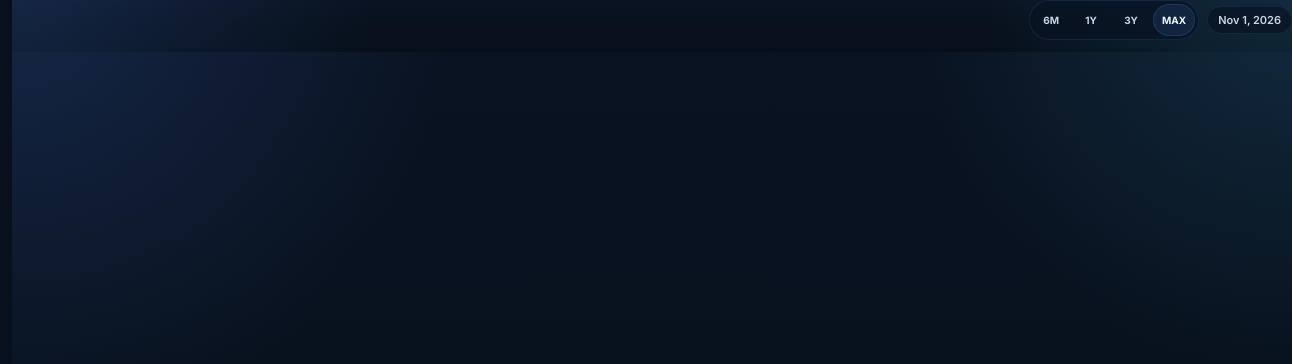
it: exposes the selected range and updates it when the user chooses another period
The width and height of the screenshot is (1292, 364).
Click the button "6M" at (1051, 20), box [1033,4,1069,36]
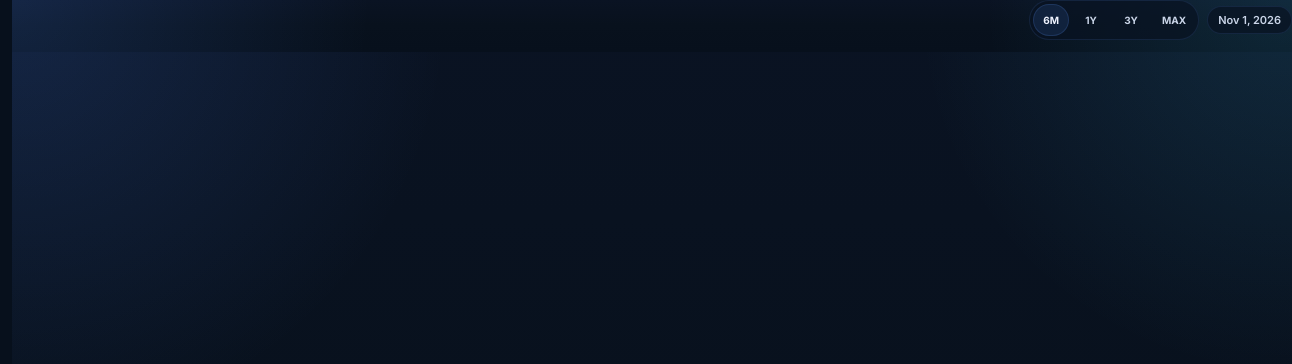
Expected: the button "6M" is pressed, [1033,4,1069,36]
Expected: the button "MAX" is not pressed, [1153,4,1195,36]
